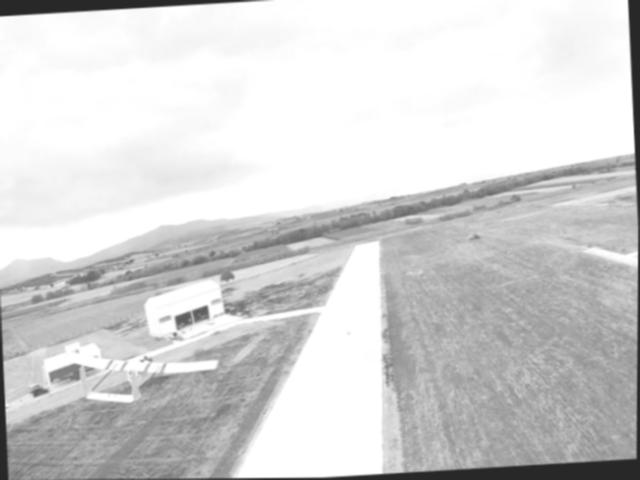hedef: (46, 330, 229, 413)
